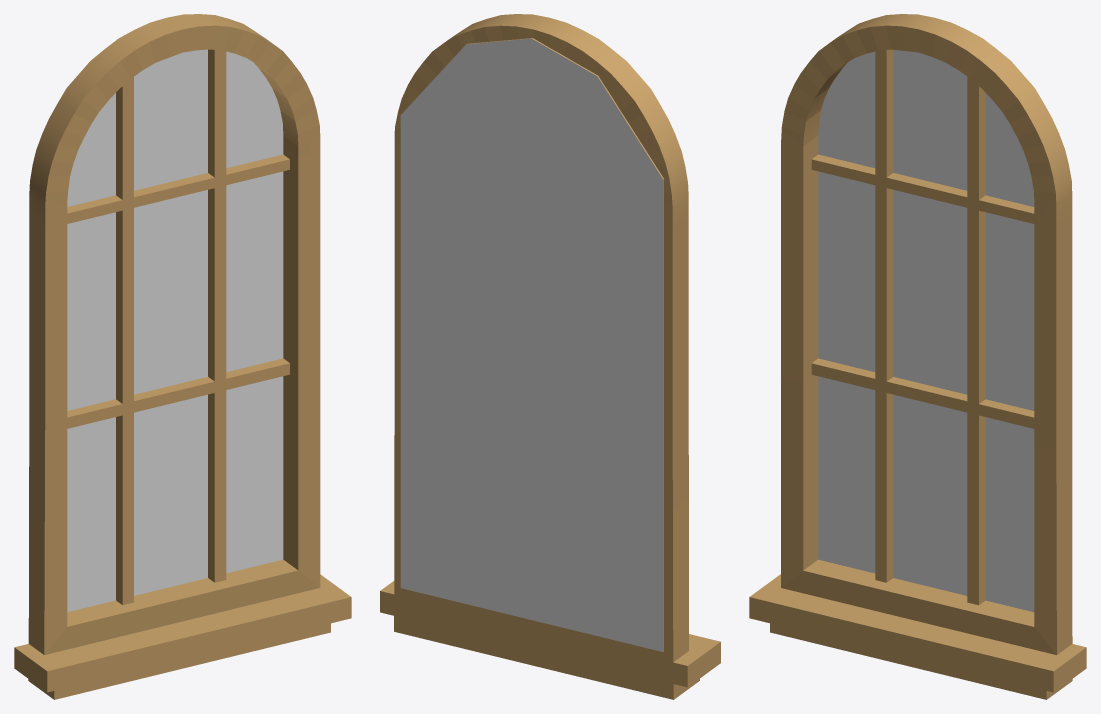
Rendered from Bogenfenster_groß.fbx.
3 renders of one model, left to right at view 1: azimuth 30°, elevation 25°; view 2: azimuth 150°, elevation 25°; view 3: azimuth 330°, elevation 25°, orthographic.
Parts seen in each view (by area): view 1: Line001.001; view 2: Line001.001; view 3: Line001.001.
Boxes of the visible parts, x1,y1,x2,y2 form: Line001.001: (14, 14, 351, 699); Line001.001: (380, 14, 720, 699); Line001.001: (749, 14, 1086, 699).
Bounding box in the file's own units: 26.95 × 53.28 × 5.17.
